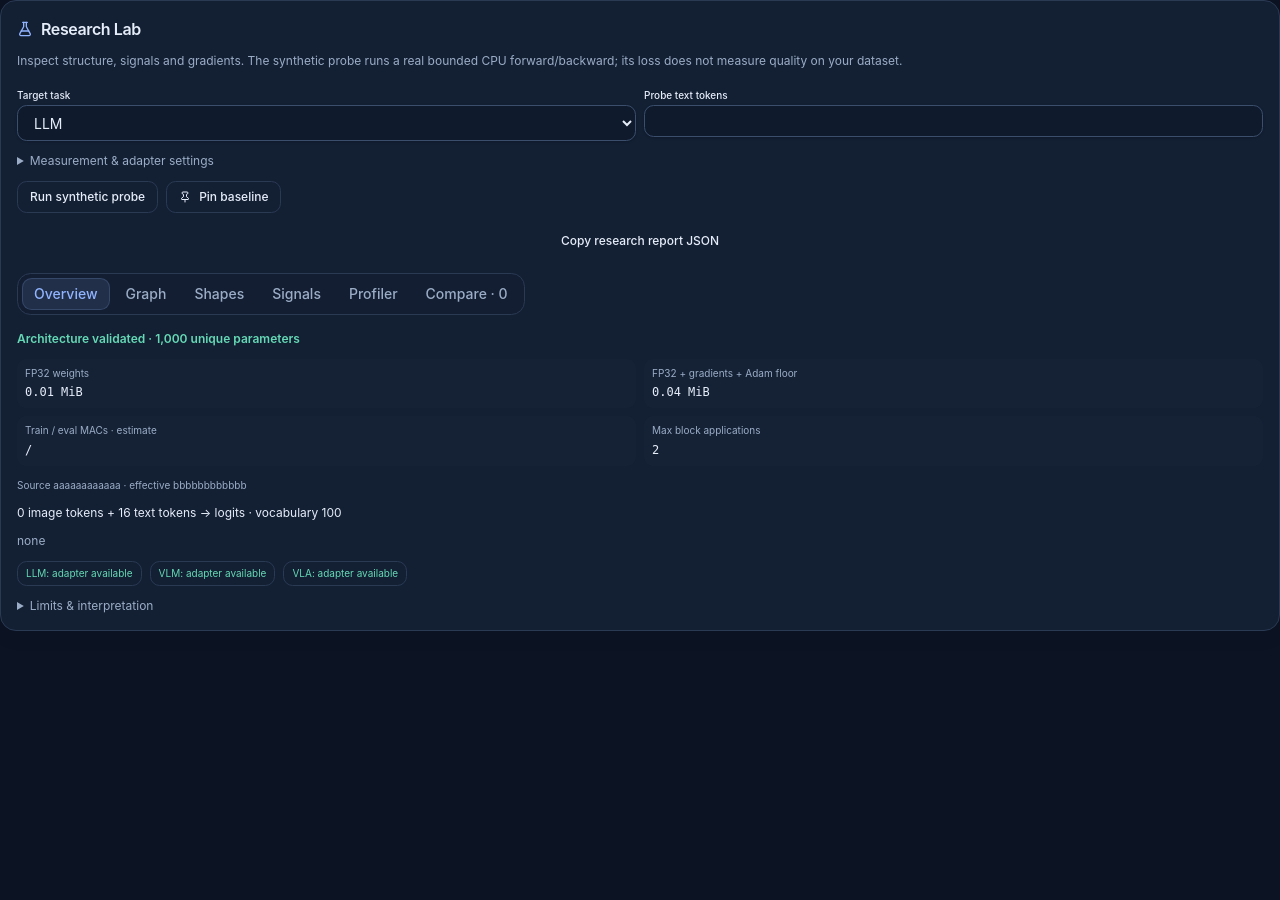
Scenario: keeps a stale synthetic result out of the view after the measurement profile changes
Click the button "Run synthetic probe": [88, 197] box [17, 181, 158, 213]
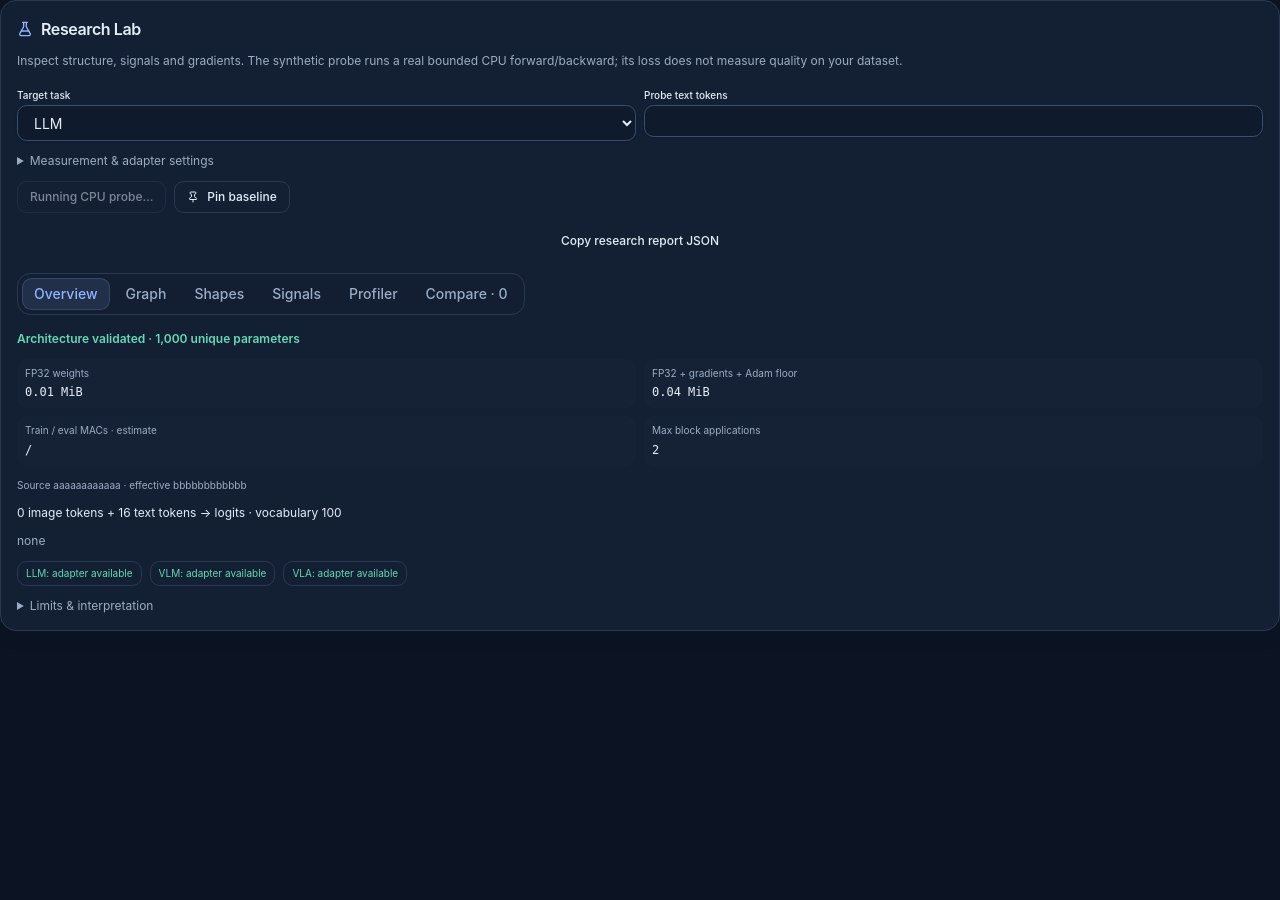
In the number field labelled "Probe text tokens": [954, 121] box [644, 105, 1263, 137], type "32"
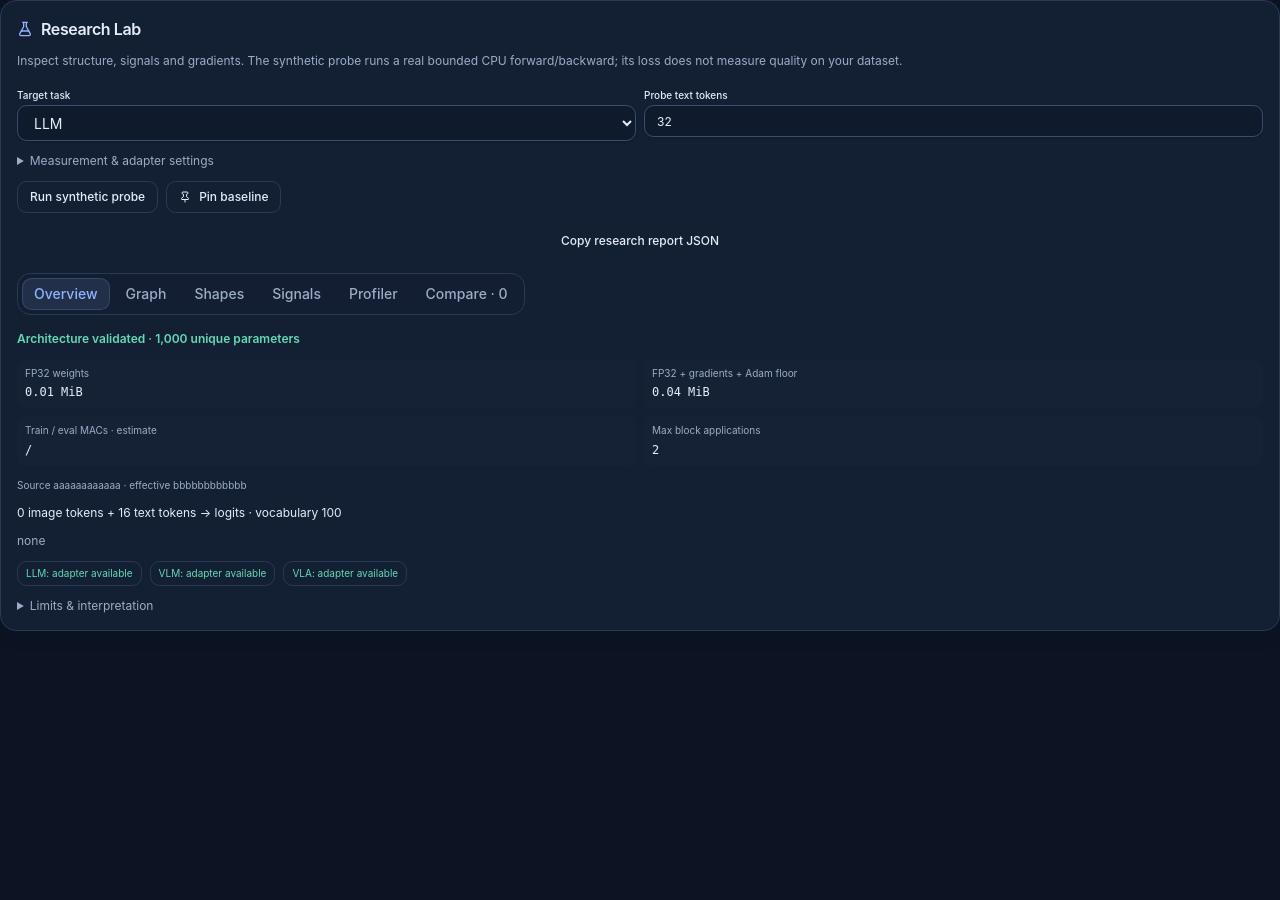
Result: the button "Run synthetic probe" is enabled at [17, 181, 158, 213]
